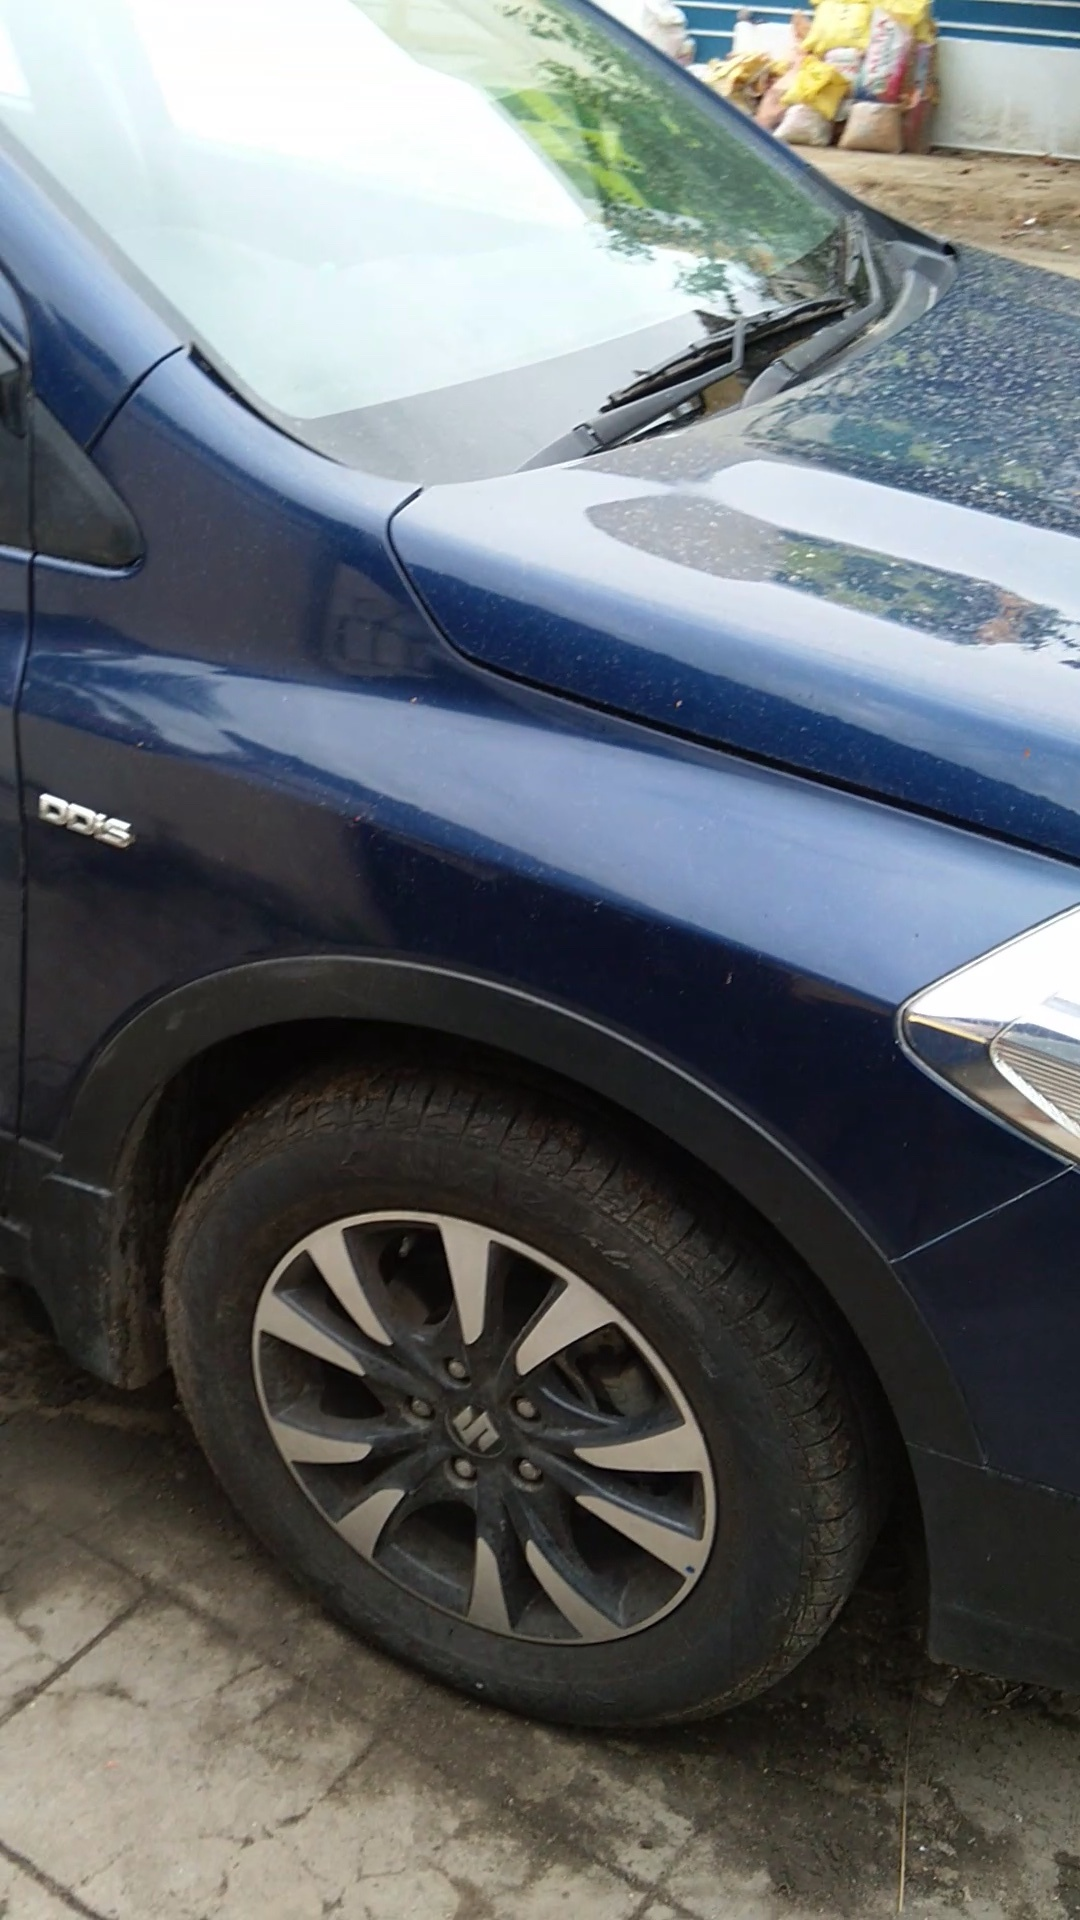alloy_wheel: (169, 1065, 864, 1772)
